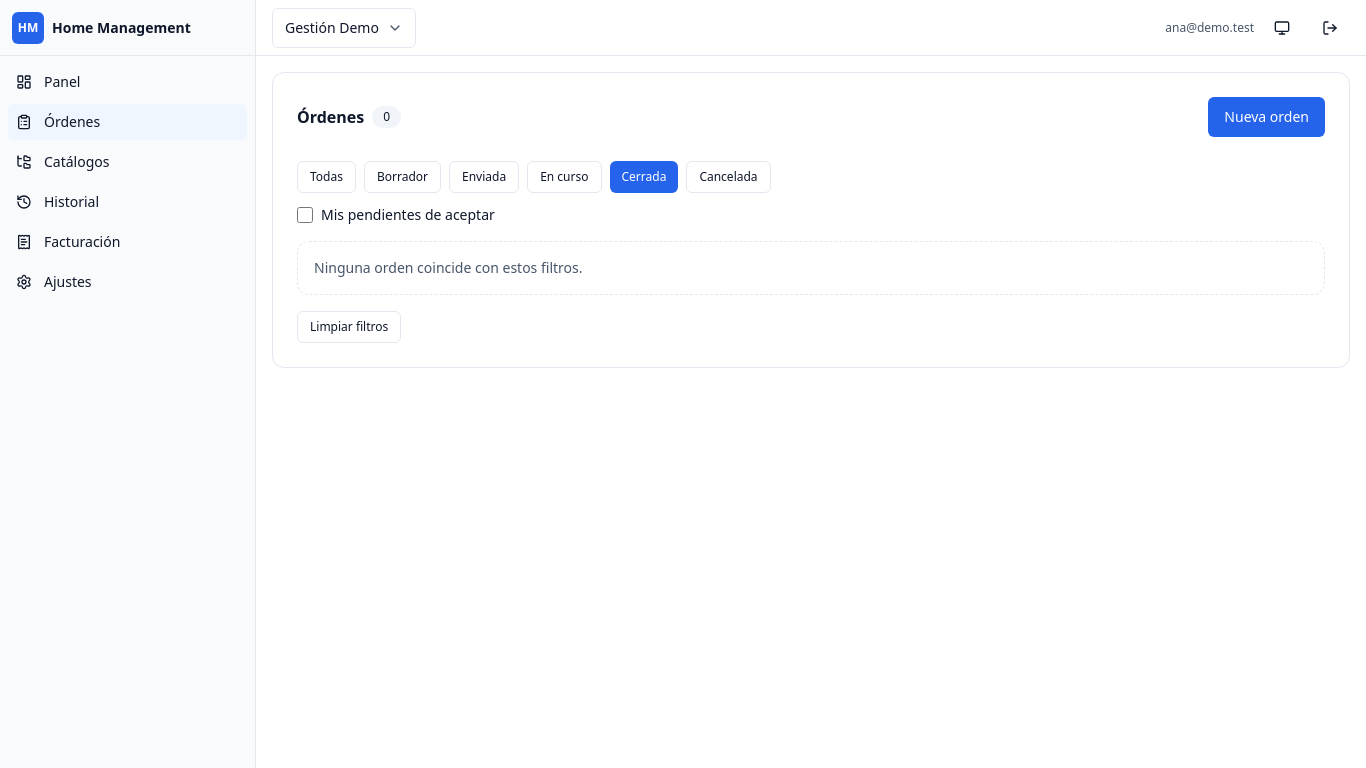
it: order list (spec F4 §2.1, AC-F4.1/AC-F4.2) › distinguishes empty from filtered-empty and offers «Limpiar filtros»
Expected: the text "Ninguna orden coincide con estos filtros." is shown, 297,241 -> 1325,295
What coordinates should you click on to do the following:
click the button "Limpiar filtros"
I would click on:
 (349, 327)
Its box is 297,311 -> 401,343.
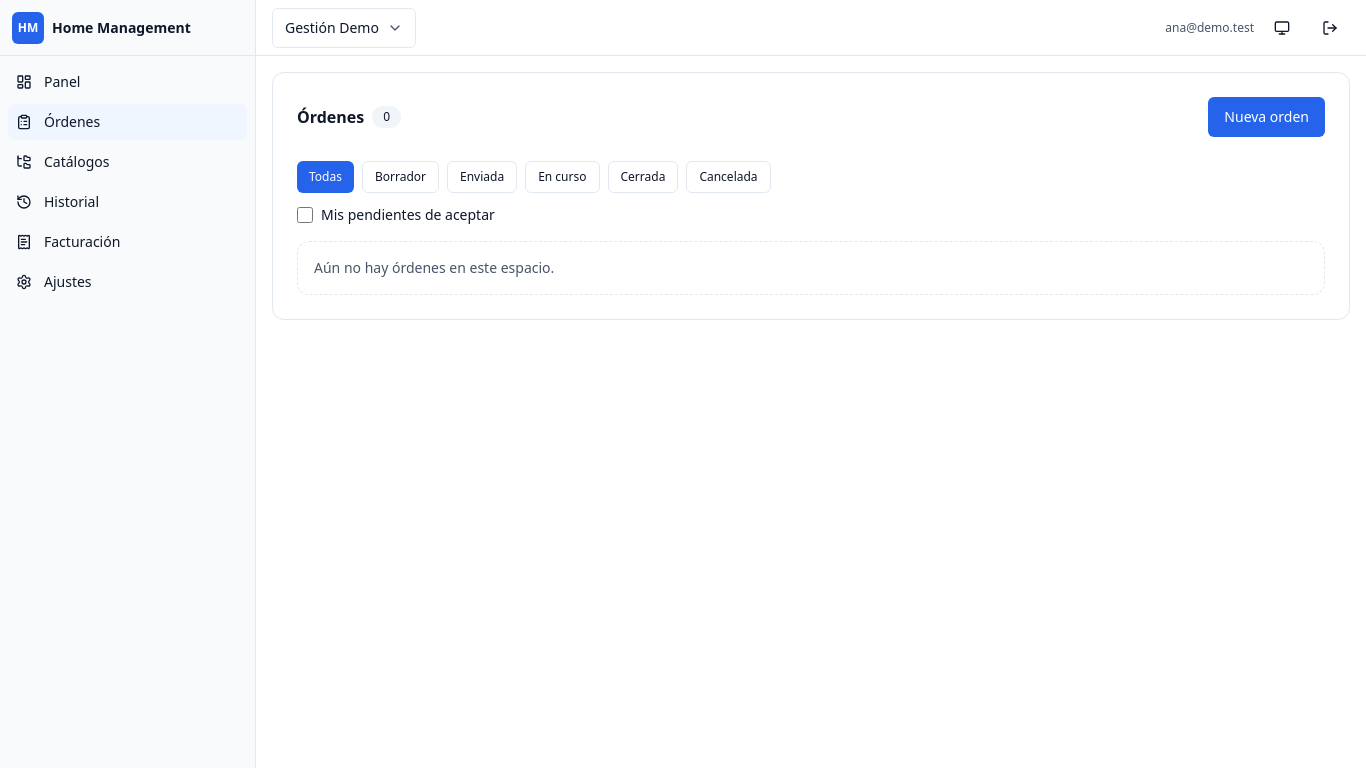
Expected: the text "Aún no hay órdenes en este espacio." is shown, 297,241 -> 1325,295
